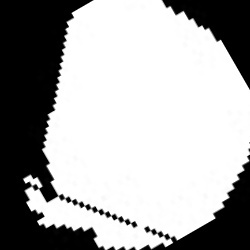spot: (23, 2, 249, 248)
